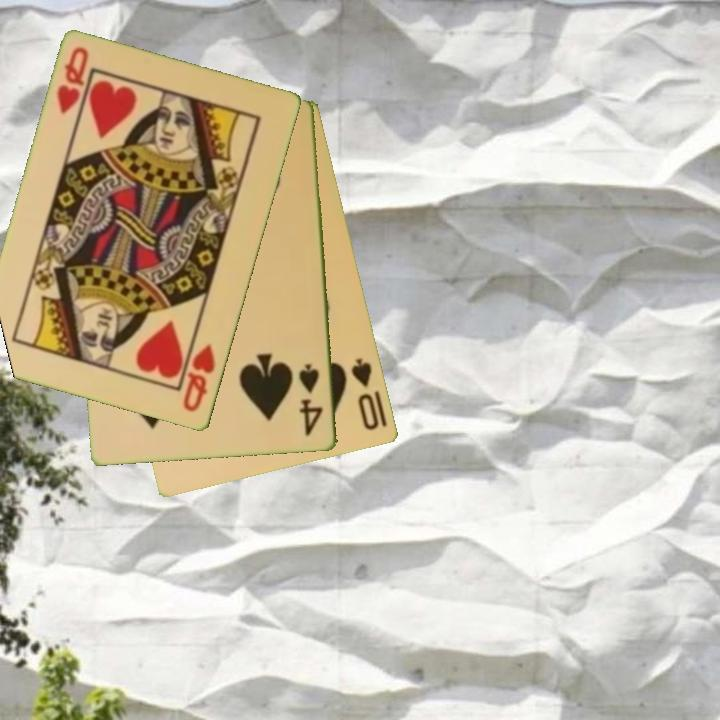10s: (348, 355, 383, 434)
4s: (296, 360, 326, 440)
Qh: (180, 341, 219, 416), (53, 44, 92, 118)
